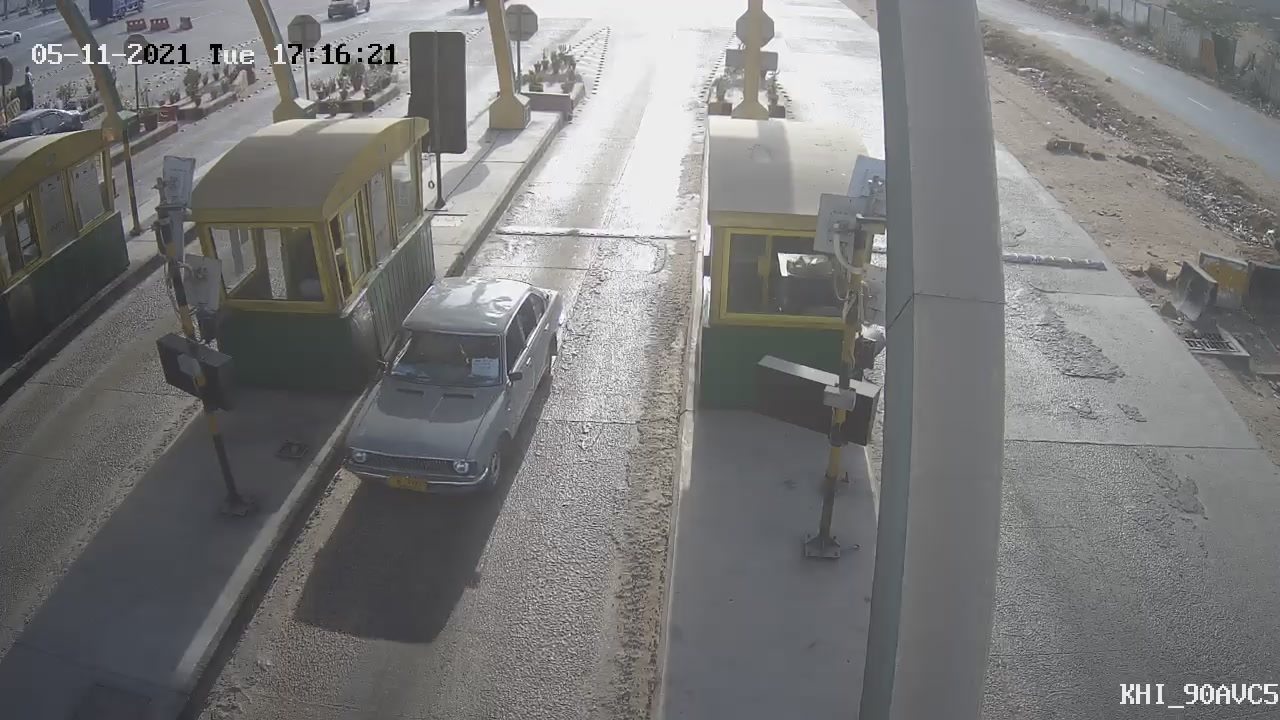F1: (320, 252, 579, 516)
